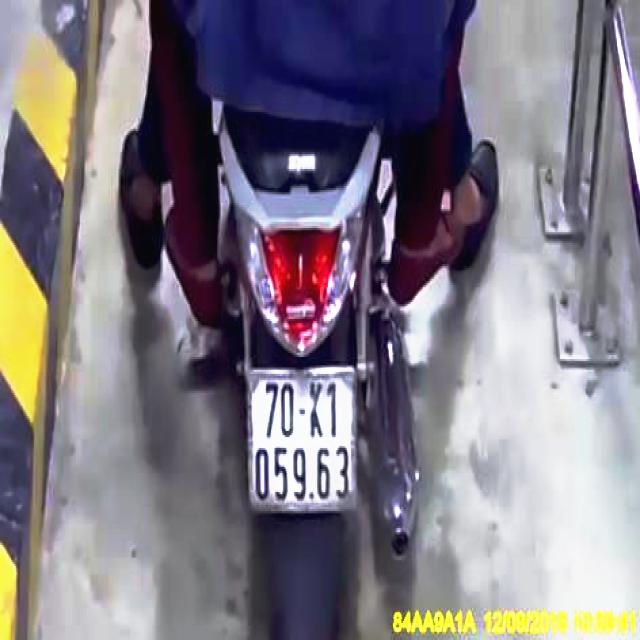license_plate: (250, 368, 355, 509)
